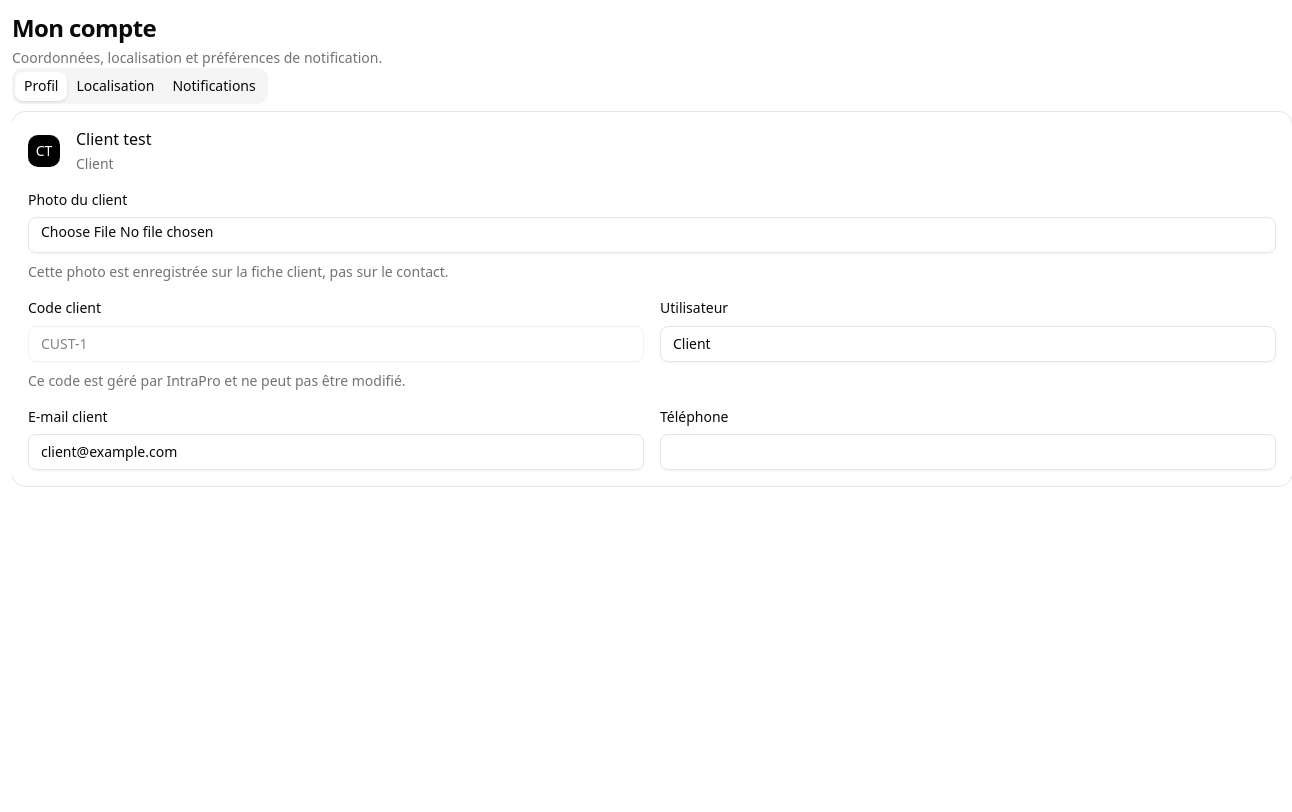
Test case: onglet Profil › n’affiche Enregistrer le profil qu’après une modification
This screenshot has width=1292, height=812.
Expected: the button "Enregistrer le profil" is not shown
Type "0550000000" into the field labelled "Téléphone" at x=968, y=452, box [660,434,1276,470]
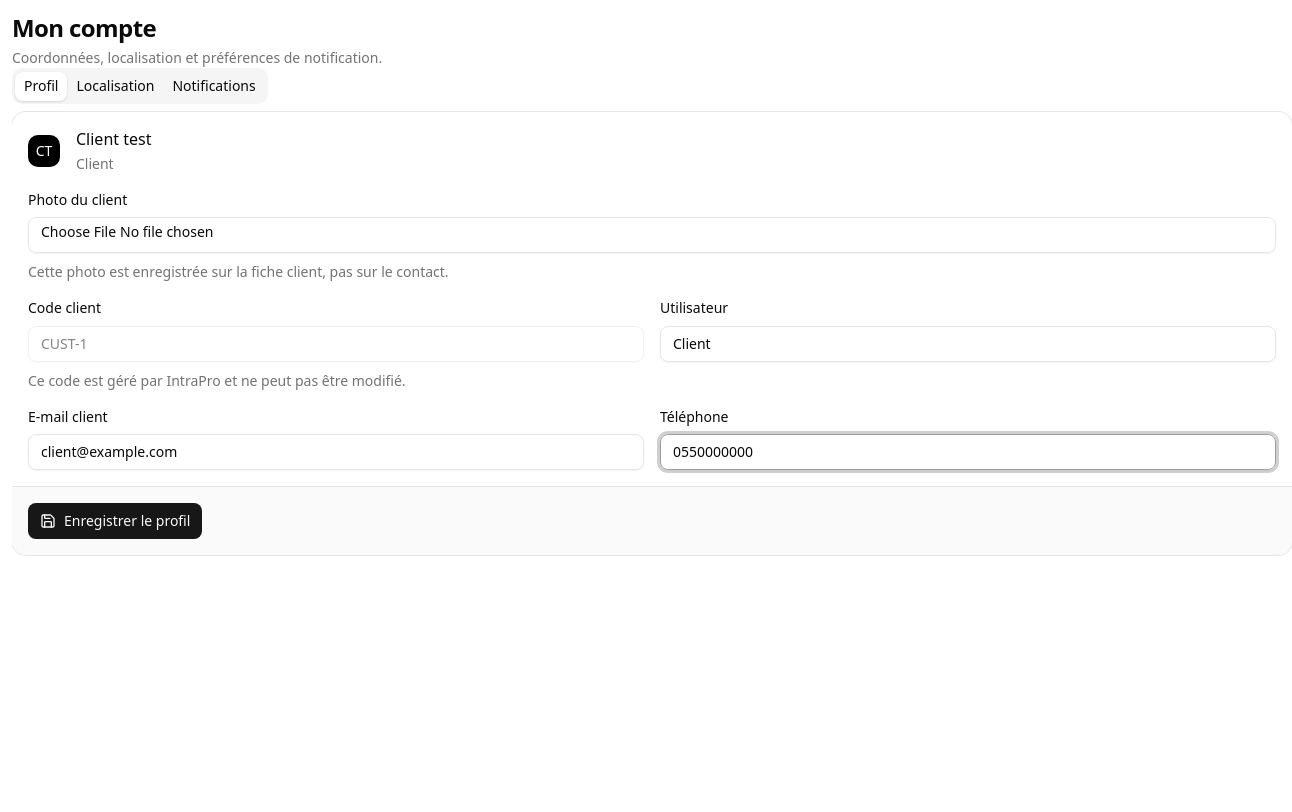
Expected: the button "Enregistrer le profil" is shown, [28,503,202,539]
